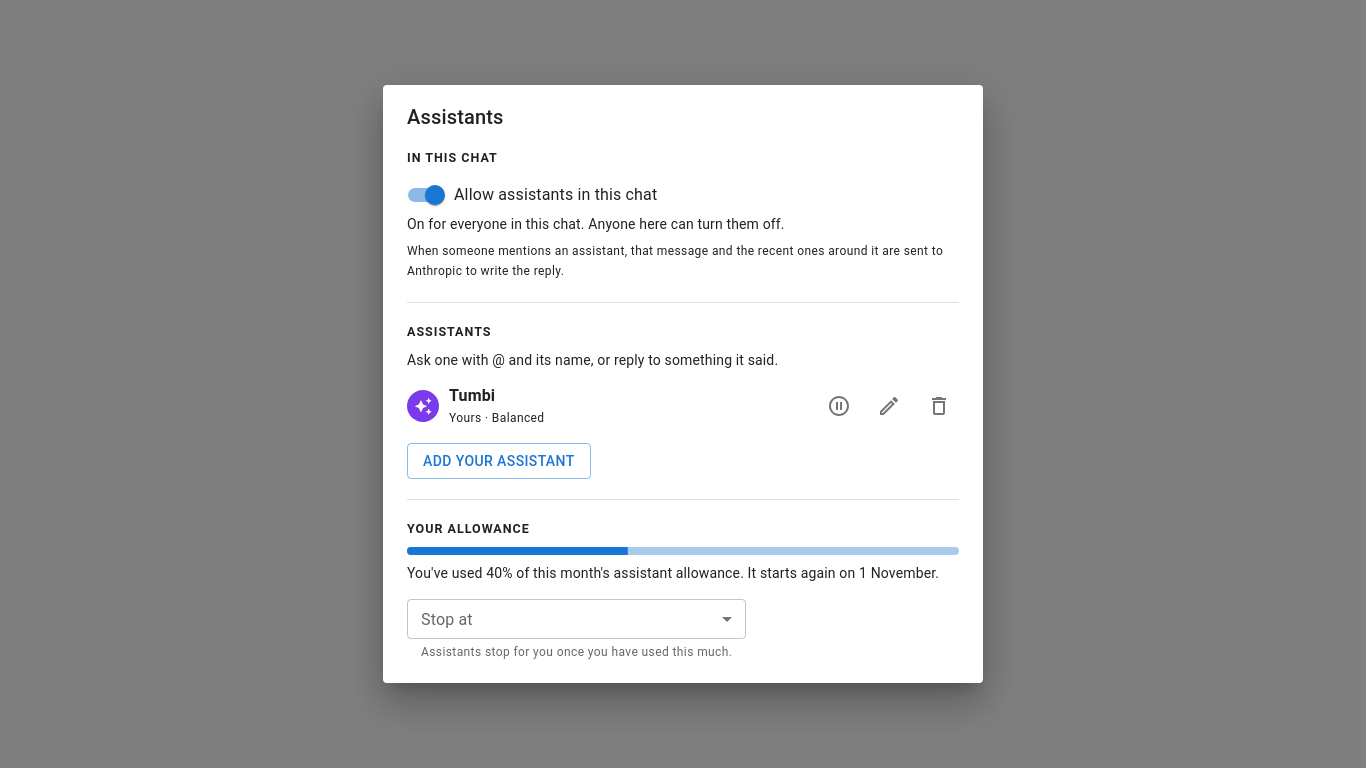
Scenario: the assistants › asks before removing one, and removes it
Click the button named "Remove Tumbi" at (939, 406), box [919,386,959,426]
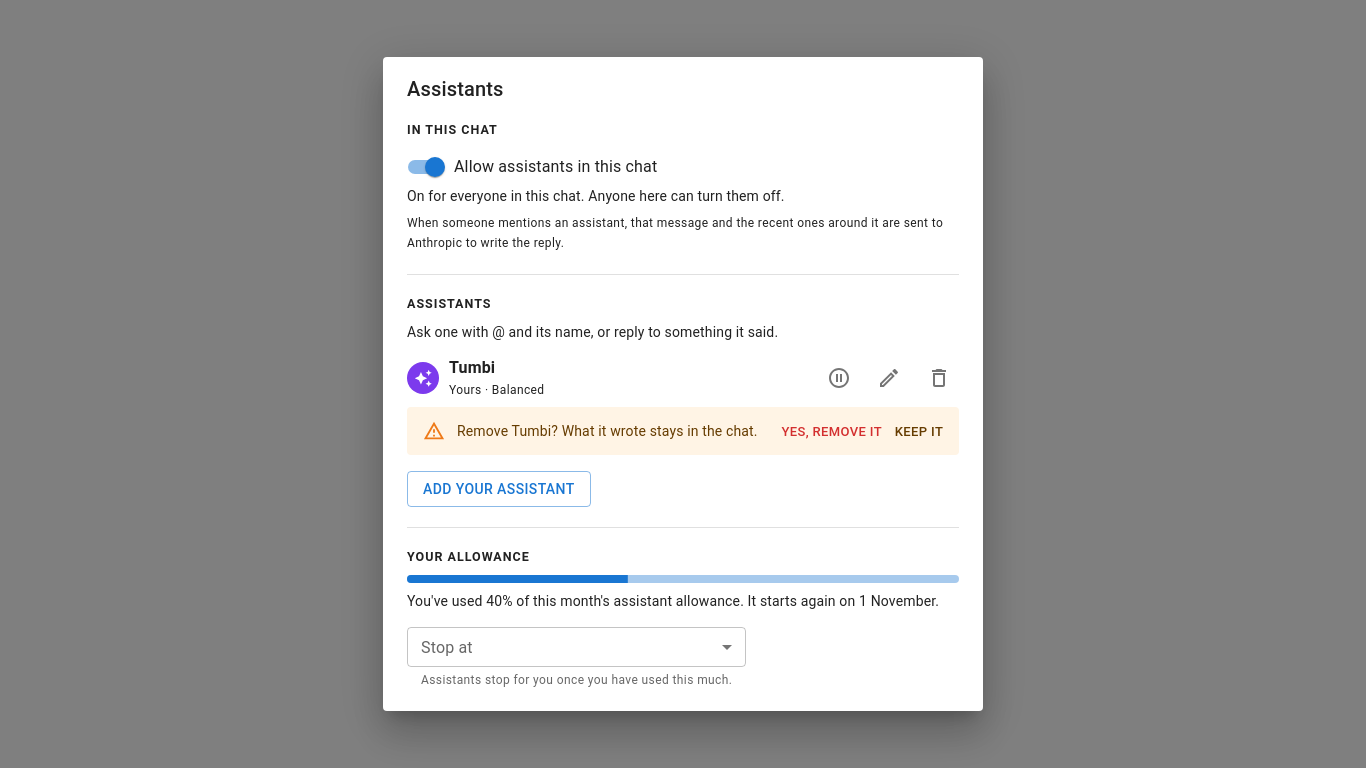
Now the text "Remove Tumbi? What it wrote stays in the chat." is shown, box [457,422,758,438]
Click the button "Keep it" at (919, 432), box [887,416,951,447]
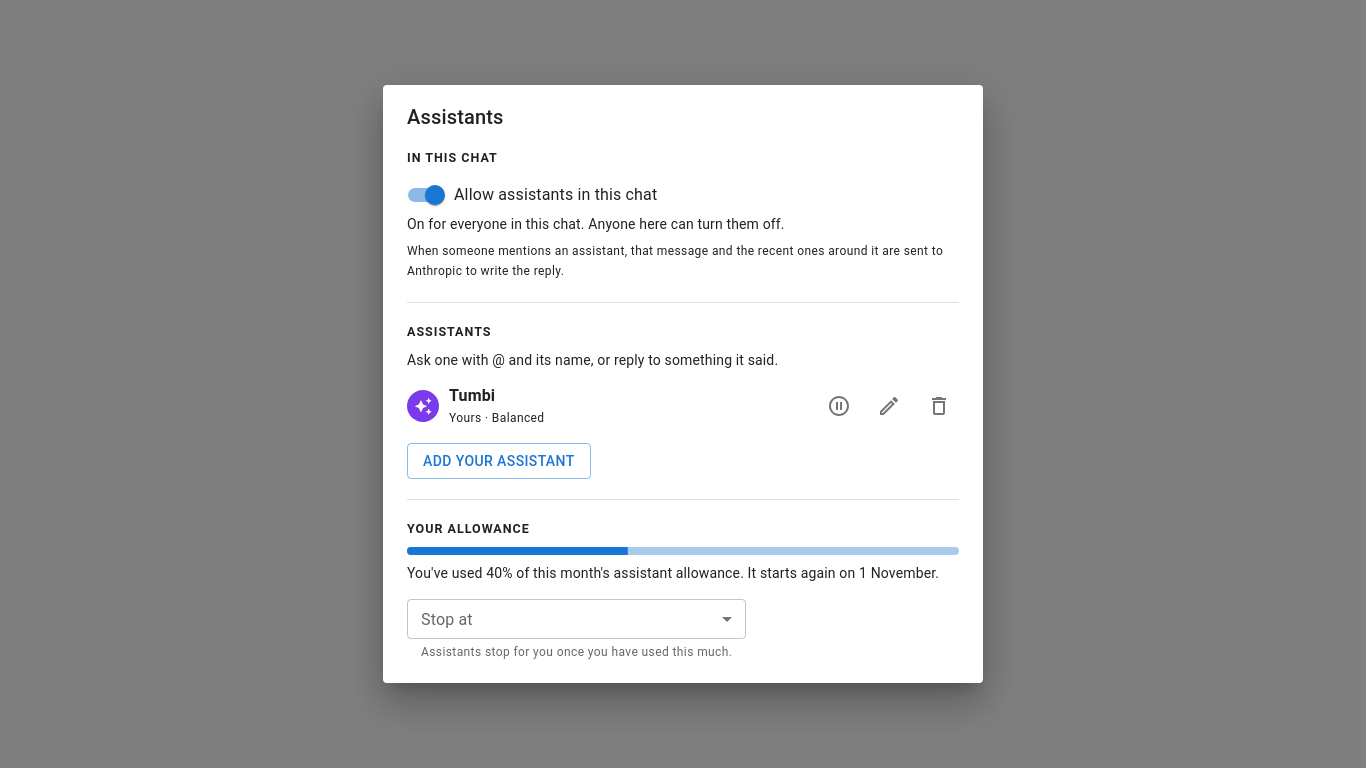
Now the text "What it wrote stays" is gone
Click the button named "Remove Tumbi" at (939, 406), box [919,386,959,426]
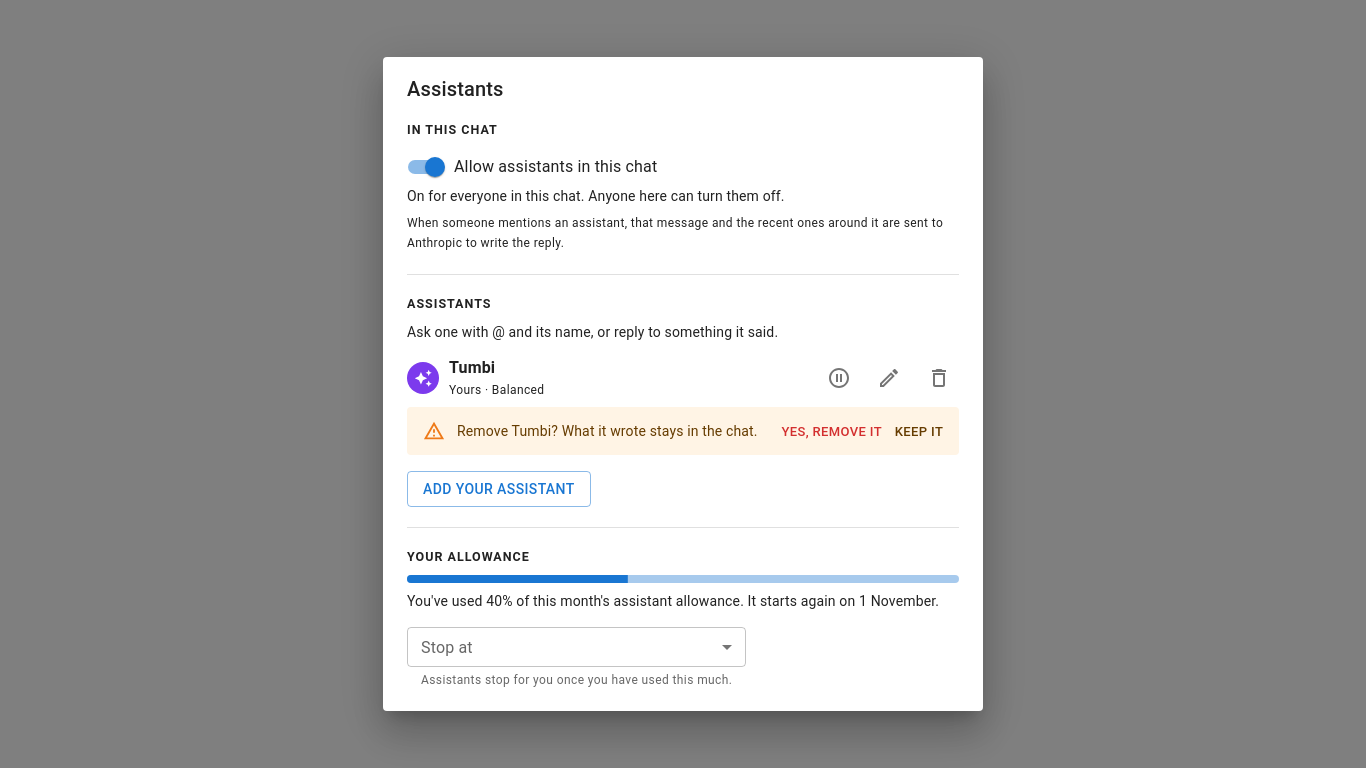
Click the button "Yes, remove it" at (832, 432), box [776,416,887,447]
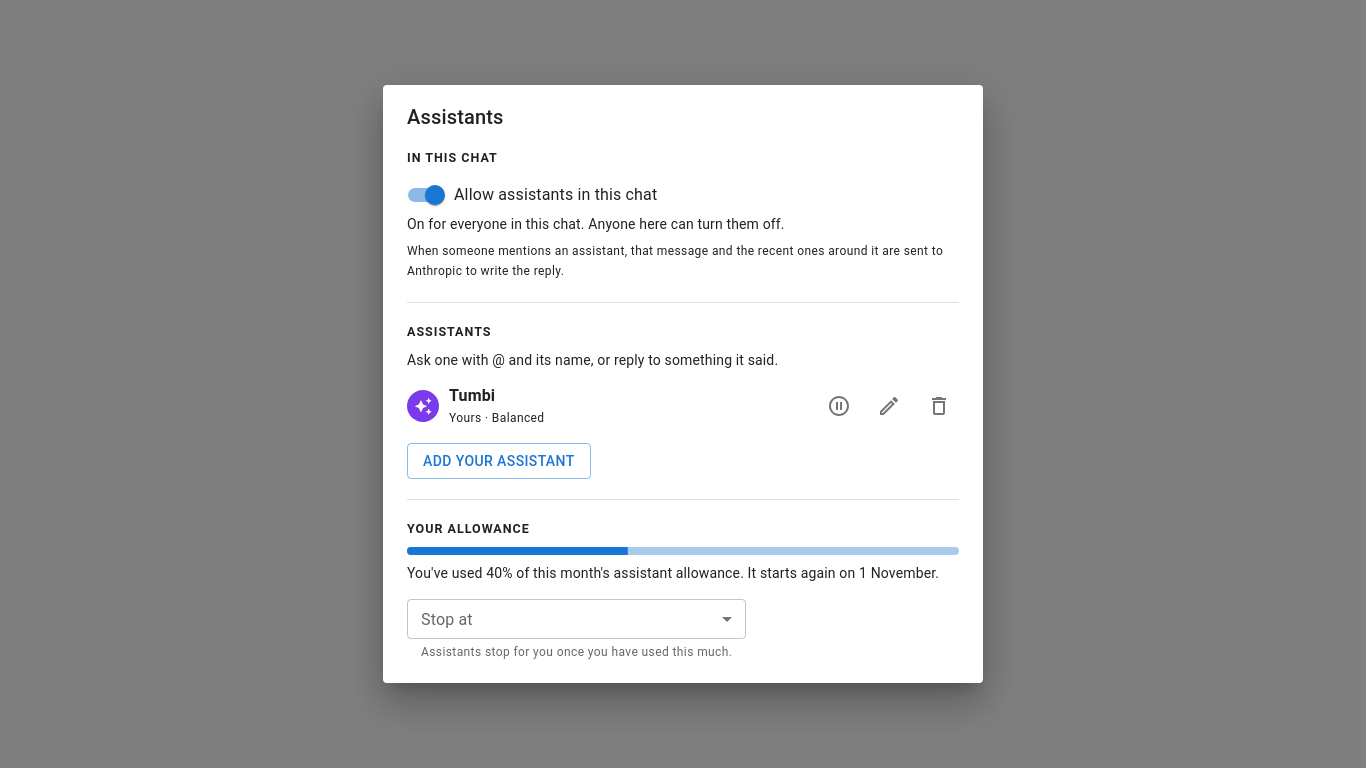
Now the text "What it wrote stays" is gone
